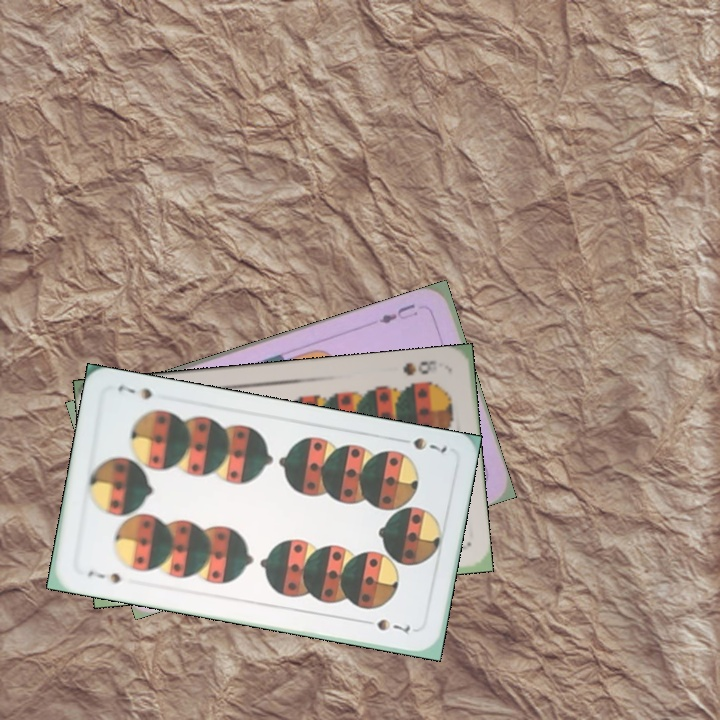EU: (375, 300, 421, 326)
S7: (409, 433, 450, 456), (83, 565, 124, 586)
S8: (398, 356, 440, 379)
